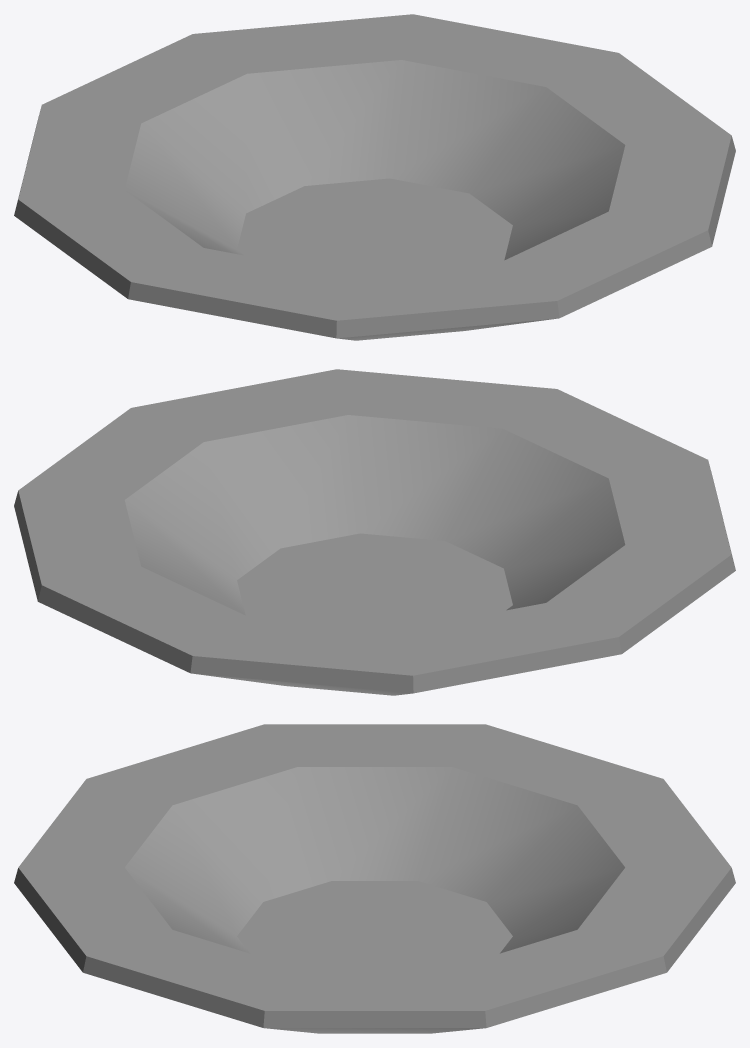
Rendered from EA_Items_House_bowl_metal_01c.glb.
3 renders of one model, top to bottom at view 1: azimuth 30°, elevation 25°; view 2: azimuth 150°, elevation 25°; view 3: azimuth 270°, elevation 25°, orthographic. The views are drawn at different scales.
Parts seen in each view (by area): view 1: EA_Items_House_bowl_metal_01c; view 2: EA_Items_House_bowl_metal_01c; view 3: EA_Items_House_bowl_metal_01c.
Boxes of the visible parts, <box> form: EA_Items_House_bowl_metal_01c: <box>14,14,735,340</box>; EA_Items_House_bowl_metal_01c: <box>14,369,735,695</box>; EA_Items_House_bowl_metal_01c: <box>14,724,735,1033</box>.
Bounding box in the file's own units: 0.3277 × 0.0502 × 0.3446.
Materials: 1 (1 with a texture image).
